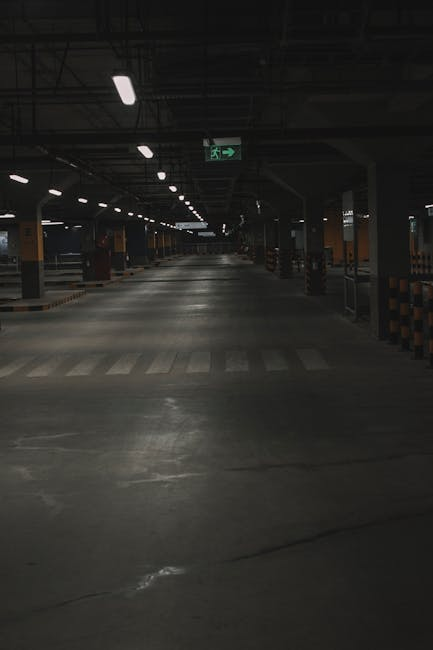emergency_exit: (203, 136, 242, 163)
